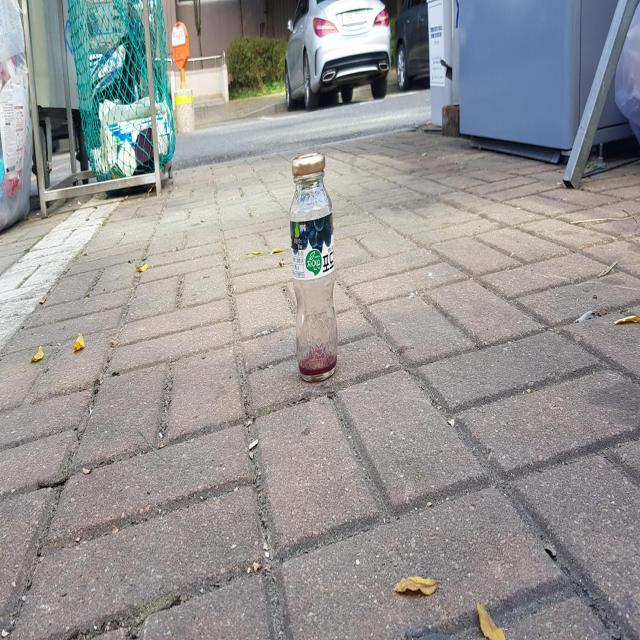glass: (290, 154, 337, 380)
